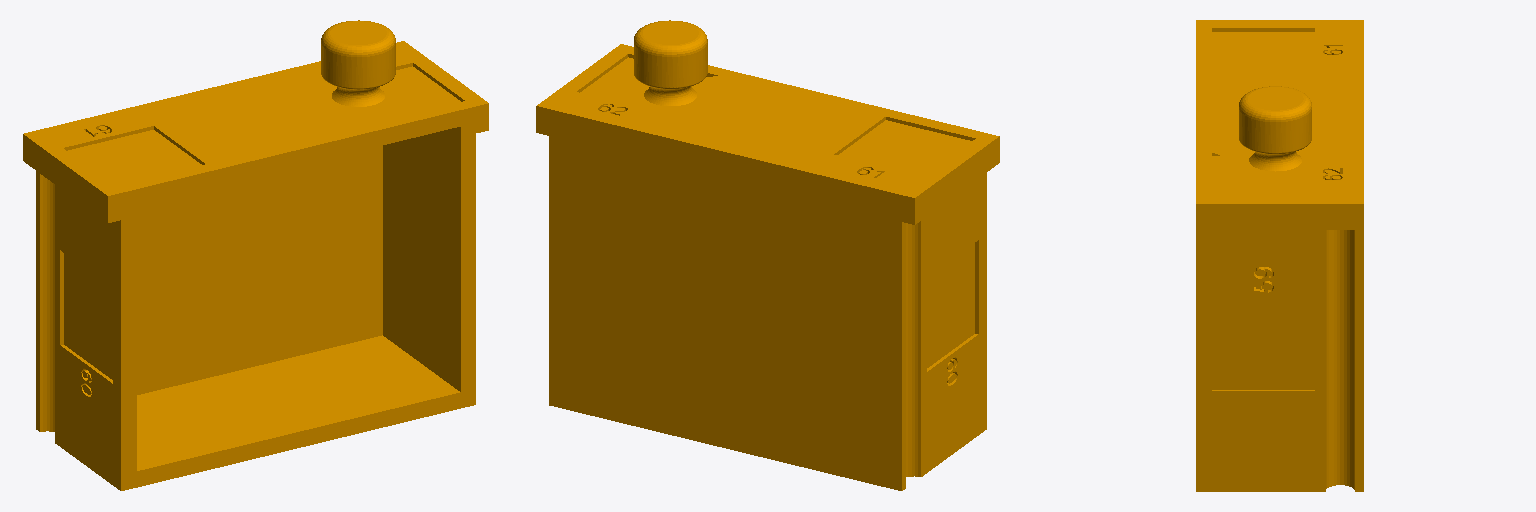
robot.urdf — drawer_bottom_1:
<?xml version="1.0"?>
<robot name="drawer_bottom_1">
    <link name="drawer_bottom_1">
        <visual>
            <geometry>
                <mesh filename="../../mesh/drawer/drawer_bottom_1.obj" scale="1 1 1"/>
            </geometry>
        </visual>
        <collision>
            <geometry>
                <mesh filename="../../mesh/drawer/drawer_bottom_1.obj" scale="1 1 1"/>
            </geometry>
            <sdf resolution="512"/>
        </collision>
    </link>
</robot>

--- Render facts (derived) ---
Views: 3 orthographic renders of the robot side by side, from view 1: azimuth 30°, elevation 25°; view 2: azimuth 150°, elevation 25°; view 3: azimuth 270°, elevation 25°.
Robot: drawer_bottom_1 — 1 links, 0 joints (none); root link drawer_bottom_1; default pose: every joint at zero.
Visible links, largest first — view 1: drawer_bottom_1; view 2: drawer_bottom_1; view 3: drawer_bottom_1.
Link boxes in pixels (box(x1,y1,x2,y2)): drawer_bottom_1: box(23, 20, 488, 490); drawer_bottom_1: box(536, 20, 999, 490); drawer_bottom_1: box(1196, 20, 1363, 491).
Size in the robot's own frame: 0.1103 by 0.0428 by 0.0997 metres.
1 mesh visuals loaded from 1 distinct referenced files (1 OBJ).